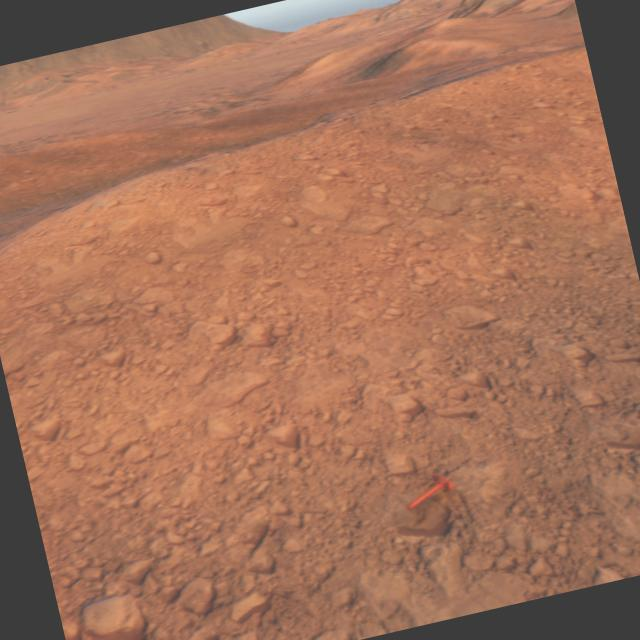newhammer: (400, 470, 456, 510)
